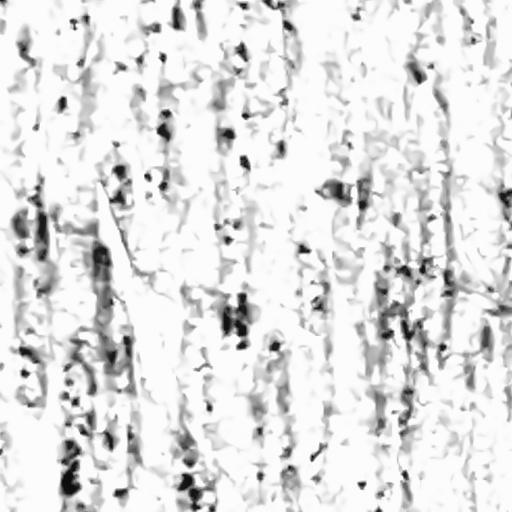egg: (35, 210, 48, 260), (406, 56, 426, 84), (157, 109, 172, 141), (171, 0, 185, 30), (222, 305, 232, 335), (178, 473, 193, 490), (402, 320, 414, 340), (235, 42, 247, 61), (123, 335, 132, 358), (104, 430, 114, 450), (240, 155, 250, 171), (237, 339, 247, 349)
